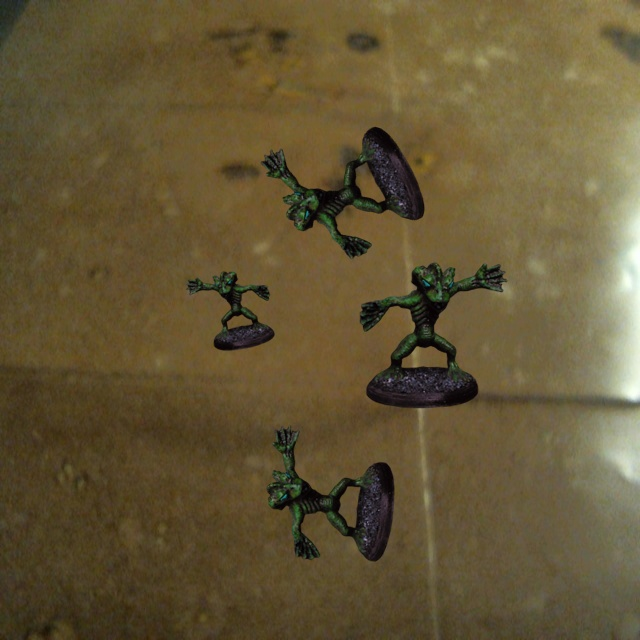pieza_juego: (261, 127, 424, 258), (360, 262, 507, 407), (266, 425, 394, 561), (186, 271, 274, 350)
